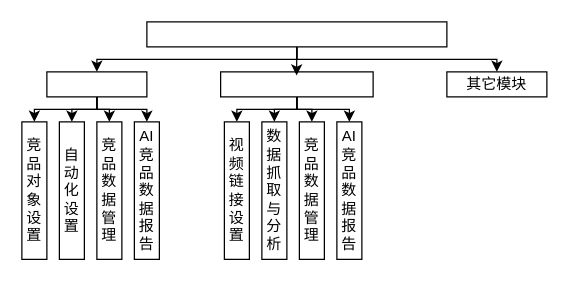
Some shapes in this 569 by 281 pixel diagram are drawn without their labels. Here are the shapes that lost their labels. From the top down, the box of each, then its label:
(146, 21, 447, 47): MOOER社交媒体数据监控平台
(46, 71, 147, 97): 竞品分析模块
(219, 71, 373, 97): 媒体视频信息分析模块
